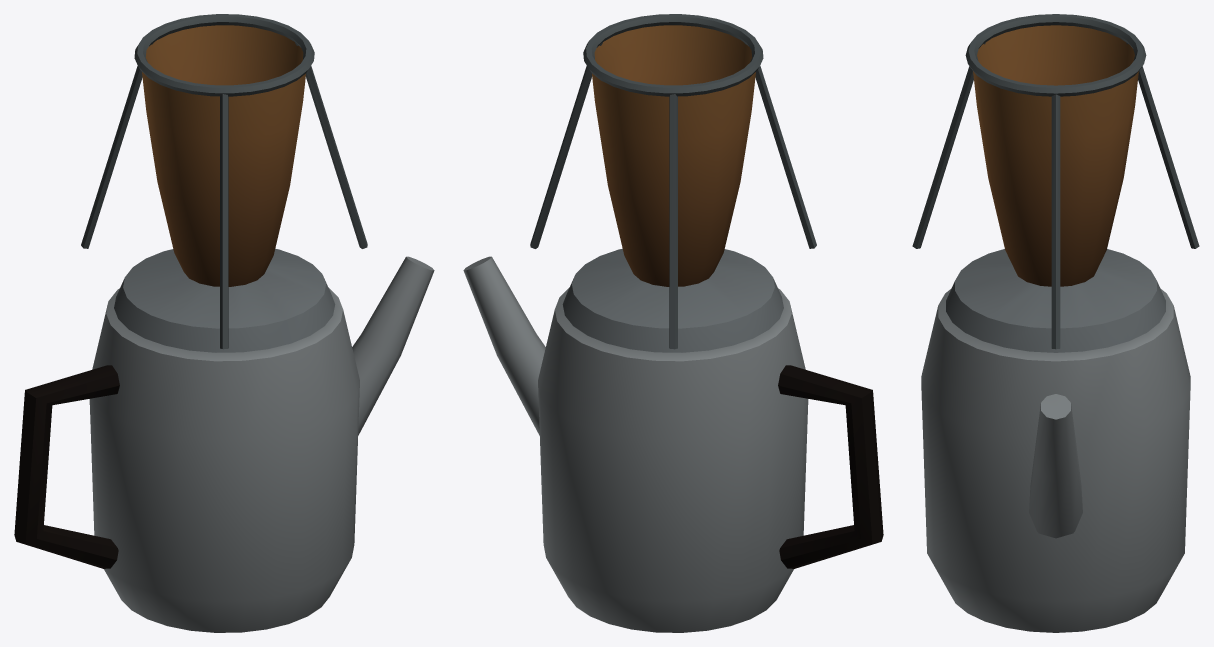
The model's file is rest-milk-tea-pot.glb.
The picture shows the model from 3 angles, left to right: view 1: azimuth 30°, elevation 25°; view 2: azimuth 150°, elevation 25°; view 3: azimuth 270°, elevation 25°; orthographic projection.
Visible parts, largest first — view 1: pot__steel, filter__felt, handle__wood; view 2: pot__steel, filter__felt, handle__wood; view 3: pot__steel, filter__felt.
Boxes of the visible parts, x1,y1,x2,y2 form: pot__steel: (81,14,434,632); filter__felt: (142,25,305,286); handle__wood: (14,365,119,568); pot__steel: (463,14,816,632); filter__felt: (592,25,755,286); handle__wood: (778,365,883,568); pot__steel: (912,14,1199,632); filter__felt: (973,25,1138,286).
Bounding box in the file's own units: 0.425 × 0.5243 × 0.2543.
